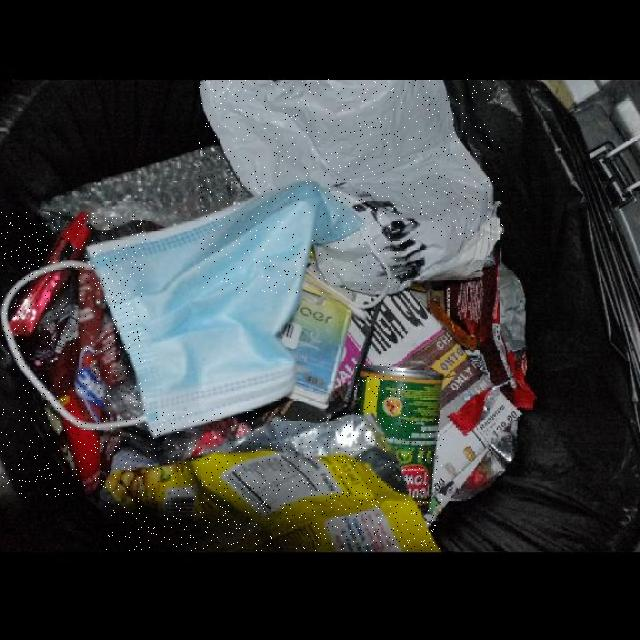metal: (355, 365, 444, 504)
plastic: (200, 79, 503, 293)
wrapper: (106, 412, 440, 551), (2, 212, 146, 498), (407, 241, 536, 434)
